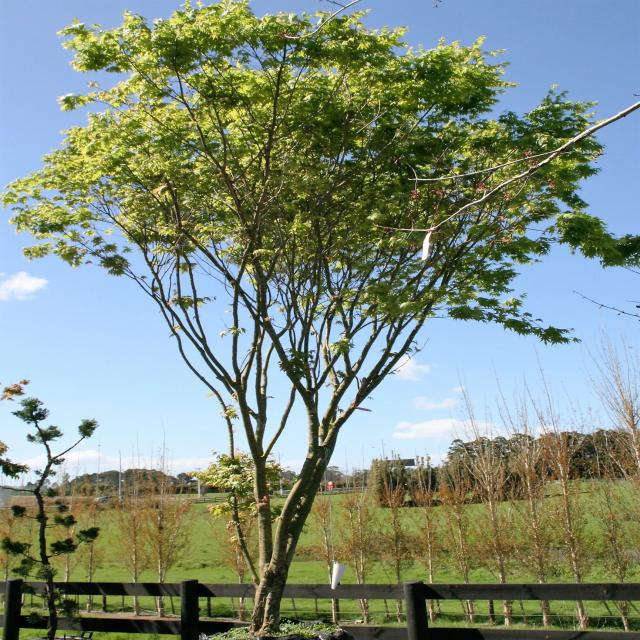Japanese Maple: (0, 5, 638, 626)
